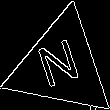N_S: (35, 35, 88, 96)
